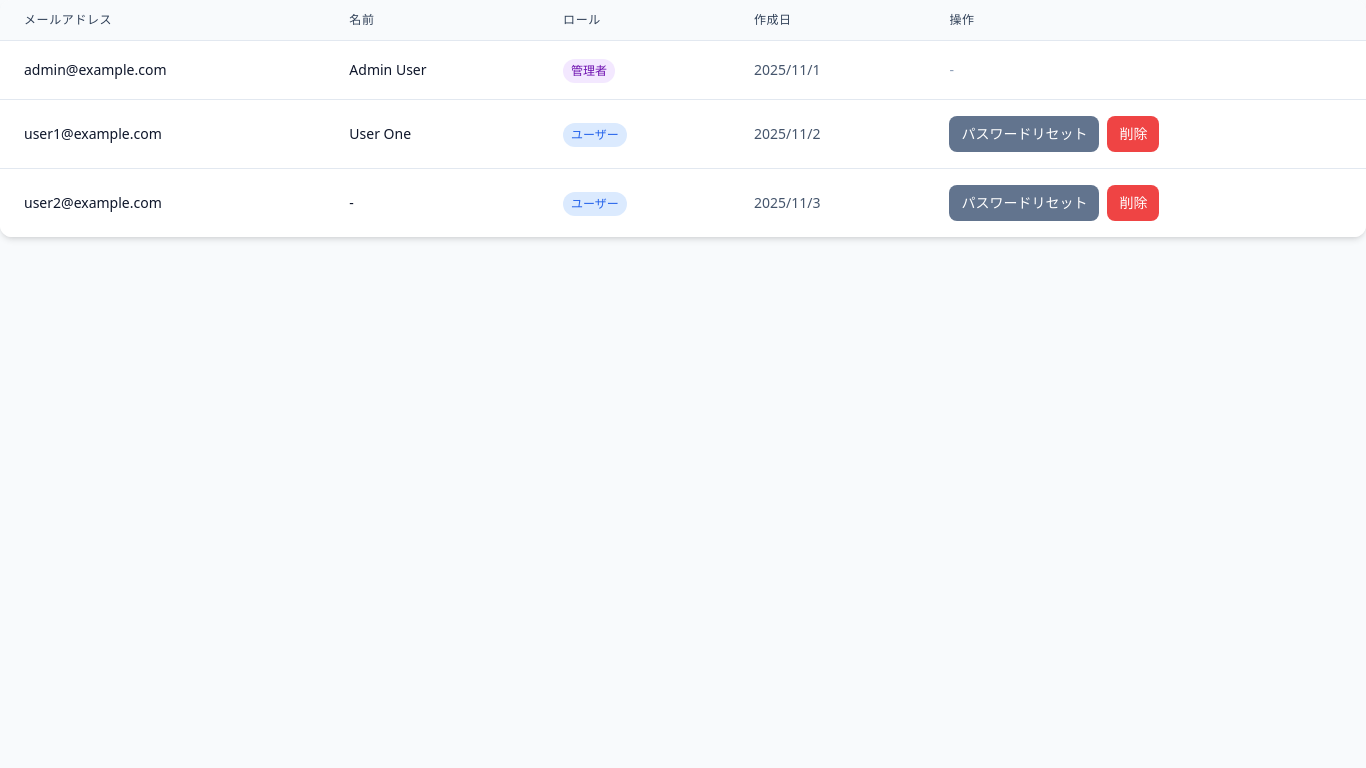
Test: UserList › Delete Functionality › should not delete user if confirmation is cancelled
This screenshot has width=1366, height=768.
Click the button "削除" in the row of "user1@example.com": click(1133, 134) [1107,116,1159,152]
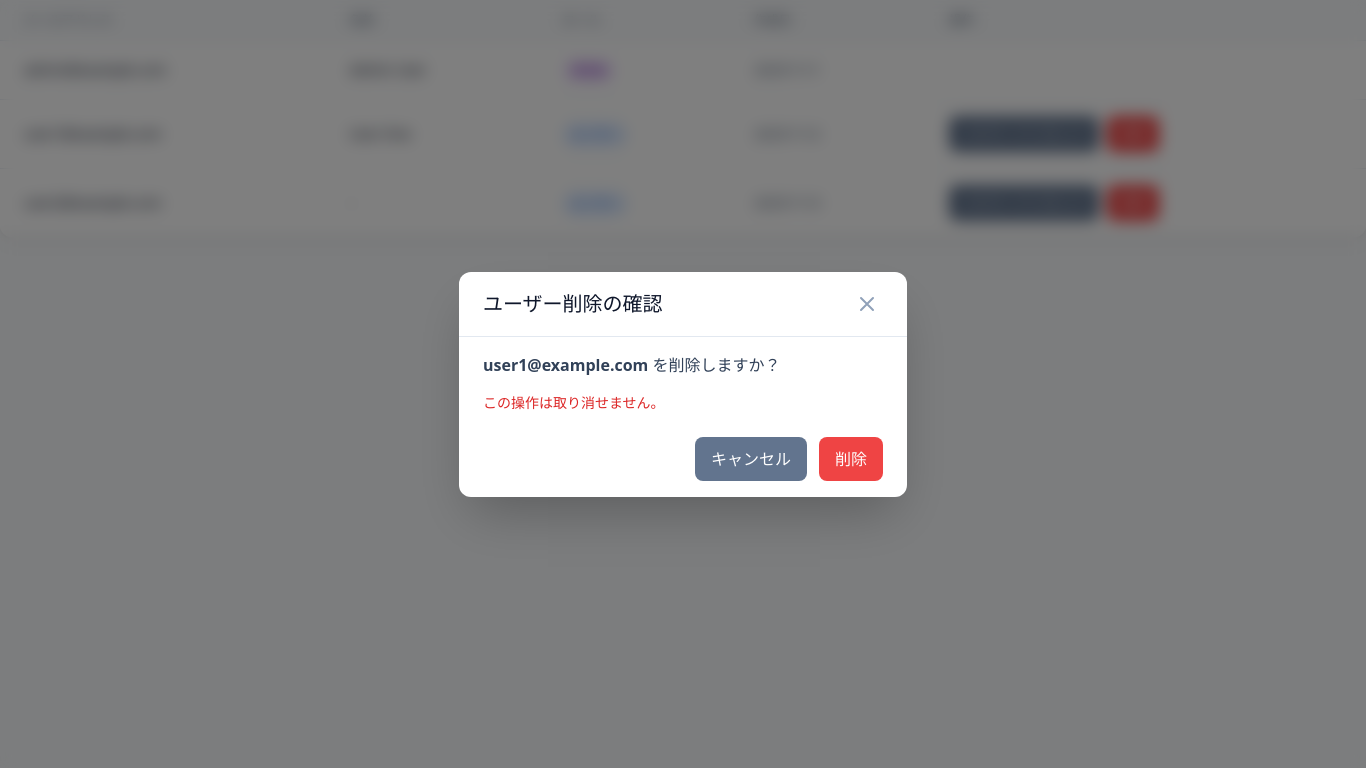
Result: the dialog is shown
Click the button "キャンセル": click(751, 458) [695,436,807,480]
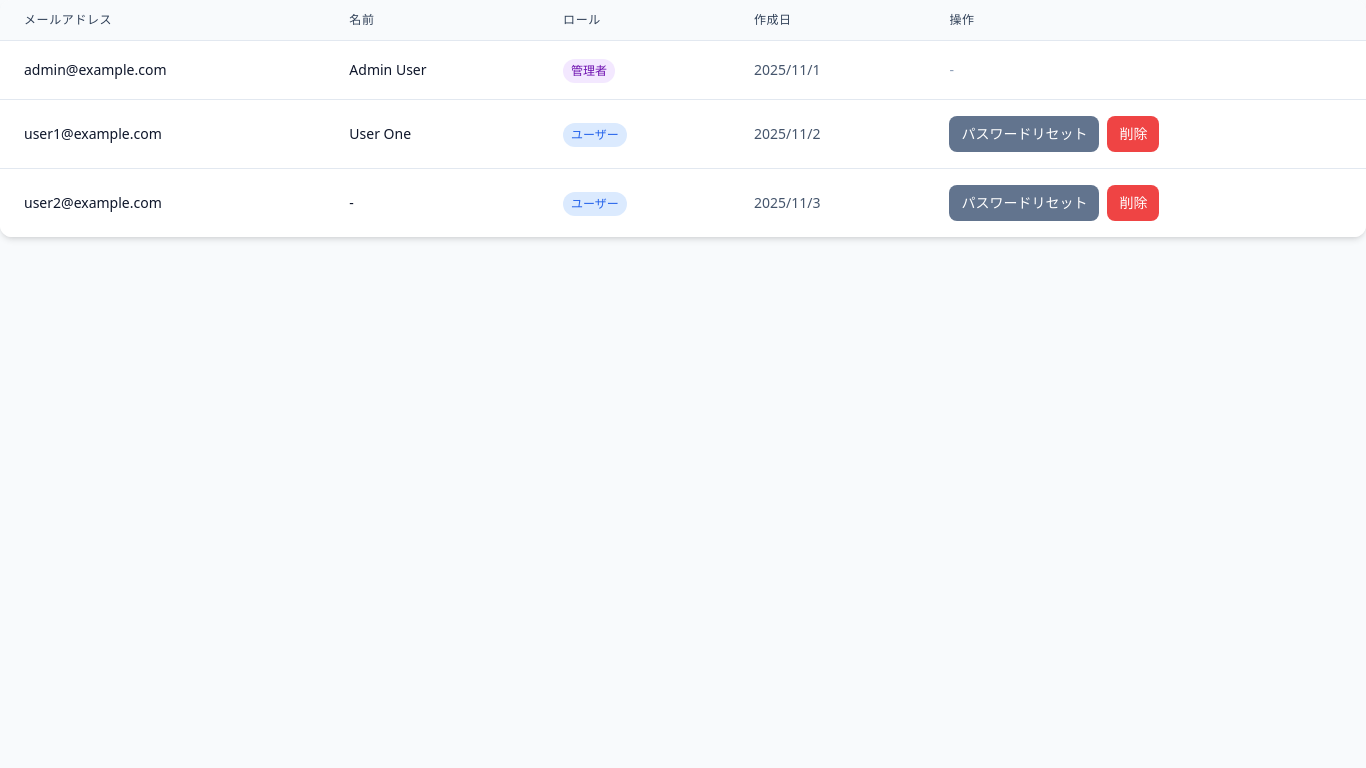
Result: the dialog is gone
